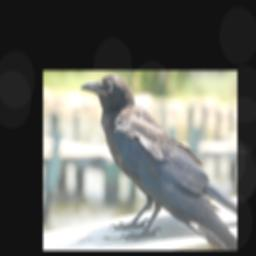Crow: (79, 75, 236, 251)
